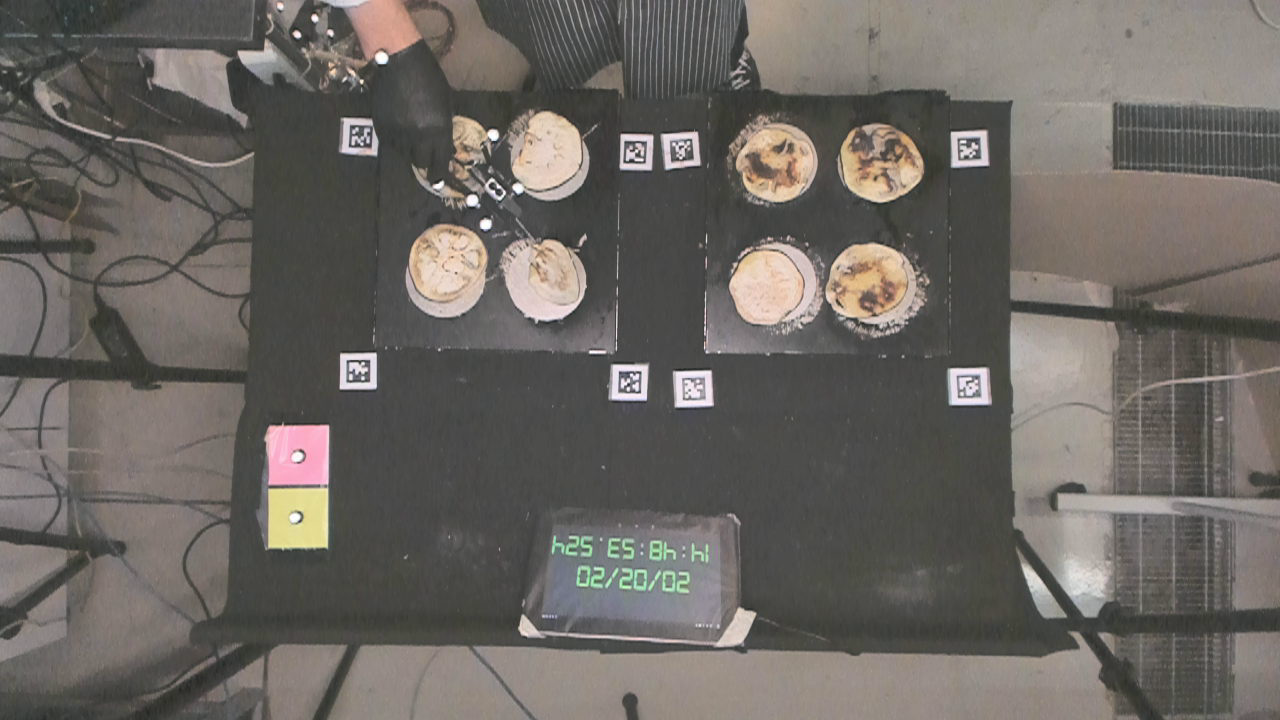eggplant: (407, 221, 489, 304), (840, 125, 926, 203), (824, 240, 907, 317), (726, 250, 803, 326), (736, 130, 814, 202), (513, 110, 582, 190), (530, 233, 580, 304)
marker: (270, 426, 329, 485)
